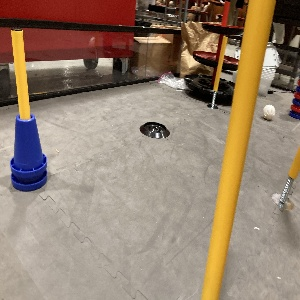Blue_2: (7, 111, 52, 194)
